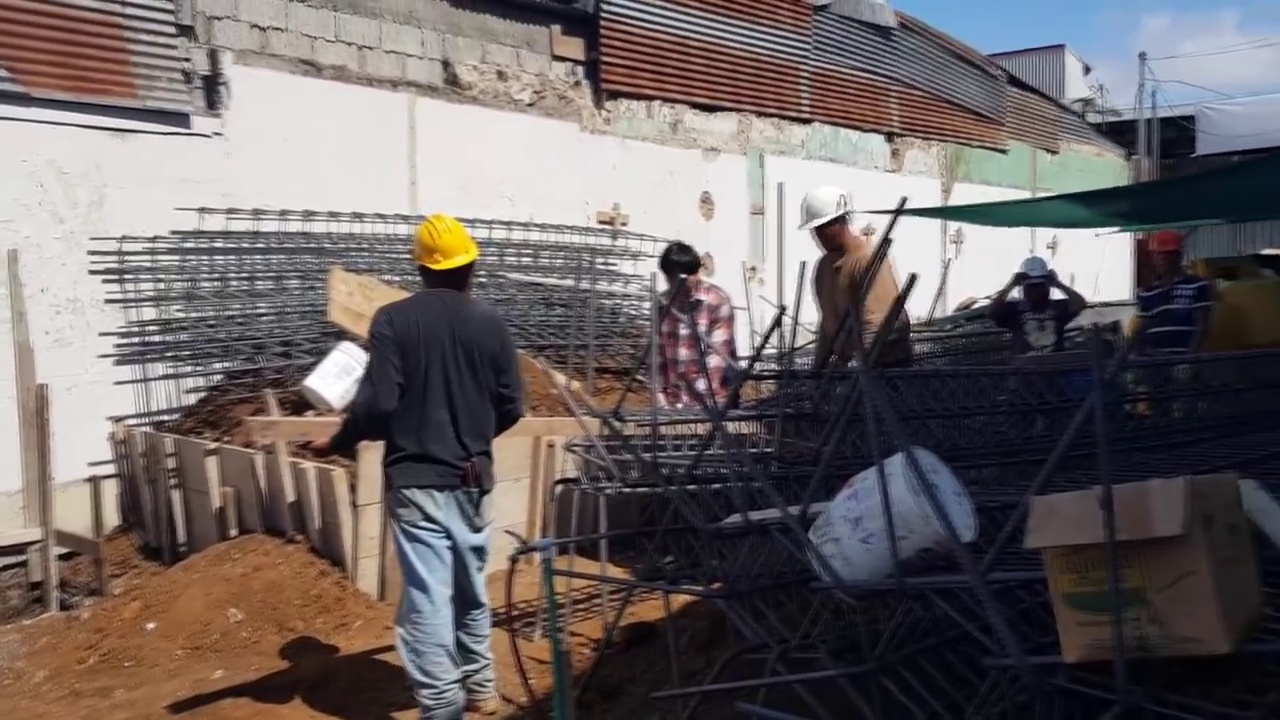helmet: (405, 215, 481, 279), (796, 193, 851, 234), (1147, 228, 1186, 253), (1018, 257, 1049, 287)
helmet-off: (657, 244, 704, 300)
helmet-on: (404, 213, 483, 300), (805, 195, 883, 264), (1145, 228, 1186, 269), (1018, 257, 1050, 303)
person: (299, 210, 527, 708), (794, 177, 904, 377), (651, 243, 743, 434), (1129, 227, 1218, 415), (1001, 257, 1078, 357)
